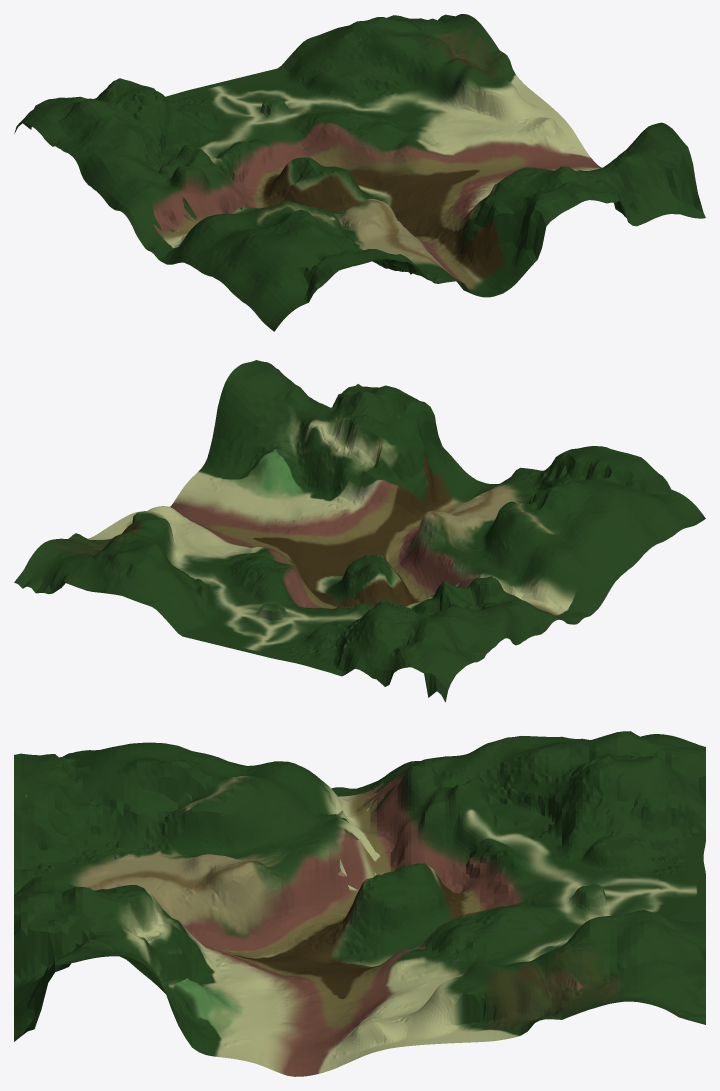
The picture shows the model from 3 angles, top to bottom: view 1: azimuth 30°, elevation 25°; view 2: azimuth 150°, elevation 25°; view 3: azimuth 270°, elevation 25°; orthographic projection. The views are drawn at different scales.
Visible parts, largest first — view 1: copysT11; view 2: copysT11; view 3: copysT11.
Boxes of the visible parts, bbox=[...] form: copysT11: bbox=[14, 14, 705, 331]; copysT11: bbox=[14, 360, 705, 702]; copysT11: bbox=[14, 731, 705, 1076].
Size of the model in its own units: 31046 by 7066 by 32440.
